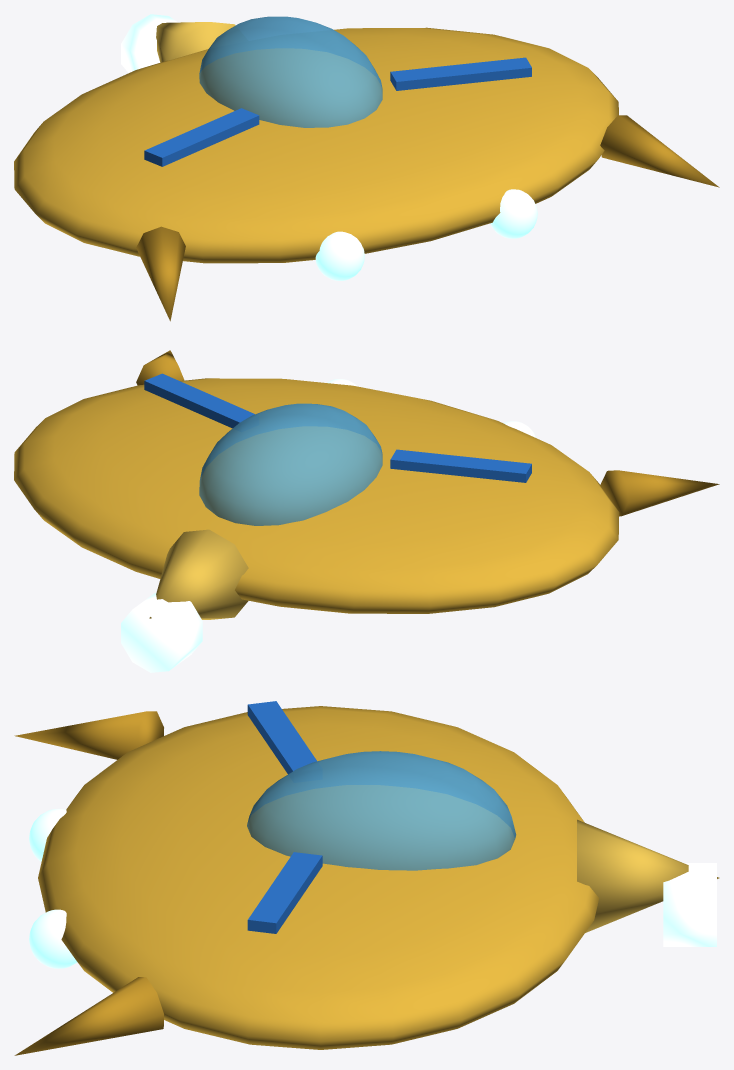
The model's file is void_ray.glb.
The picture shows the model from 3 angles, top to bottom: view 1: azimuth 30°, elevation 25°; view 2: azimuth 150°, elevation 25°; view 3: azimuth 270°, elevation 25°; orthographic projection. The views are drawn at different scales.
Parts seen in each view (by area): view 1: vr_hull.001, vr_canopy.001, vr_tip1.001, vr_streak1.001, vr_tip-1.001, vr_streak-1.001, vr_nose.001, vr_eng-1.001, vr_beam.001, vr_eng1.001; view 2: vr_hull.001, vr_canopy.001, vr_nose.001, vr_beam.001, vr_tip-1.001, vr_streak-1.001, vr_streak1.001, vr_tip1.001; view 3: vr_hull.001, vr_canopy.001, vr_nose.001, vr_tip1.001, vr_beam.001, vr_tip-1.001, vr_streak1.001, vr_streak-1.001, vr_eng1.001, vr_eng-1.001.
Part boxes in pixels (x1,y1,x2,y2): vr_hull.001: (14,27,618,263); vr_canopy.001: (199,16,382,127); vr_tip1.001: (600,115,719,187); vr_streak1.001: (390,57,531,90); vr_tip-1.001: (136,226,185,321); vr_streak-1.001: (144,108,259,166); vr_nose.001: (156,22,235,62); vr_eng-1.001: (315,231,364,280); vr_beam.001: (121,14,177,72); vr_eng1.001: (490,189,537,238); vr_hull.001: (14,378,619,613); vr_canopy.001: (199,403,382,525); vr_nose.001: (149,529,248,619); vr_beam.001: (121,593,202,672); vr_tip-1.001: (600,470,719,516); vr_streak-1.001: (390,449,531,482); vr_streak1.001: (144,373,254,428); vr_tip1.001: (136,350,184,385); vr_hull.001: (38,706,598,1049); vr_canopy.001: (247,751,516,870); vr_nose.001: (577,819,719,932); vr_tip1.001: (14,977,163,1055); vr_beam.001: (663,863,716,946); vr_tip-1.001: (14,711,163,759); vr_streak1.001: (247,852,322,933); vr_streak-1.001: (247,701,316,774); vr_eng1.001: (29,909,77,968); vr_eng-1.001: (29,808,66,862).
Size of the model in its own units: 1.3 by 0.335 by 1.19.
